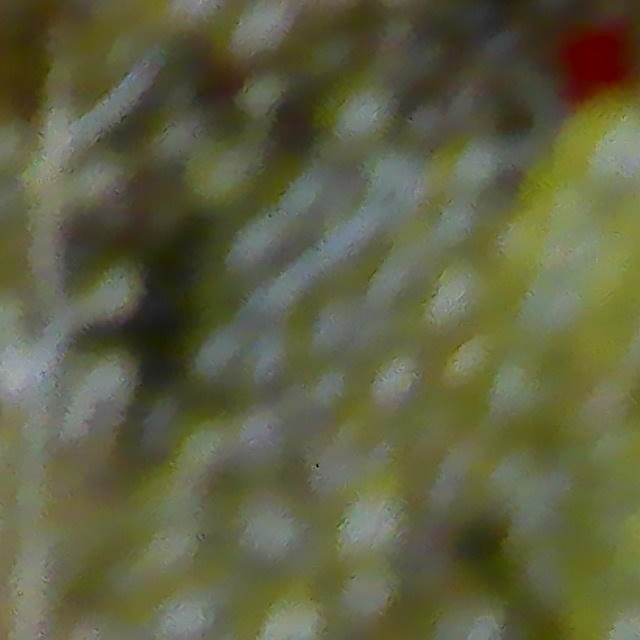SeaGrape: (552, 91, 640, 201), (226, 481, 318, 575), (423, 255, 501, 338), (326, 555, 405, 634), (484, 352, 559, 430)
